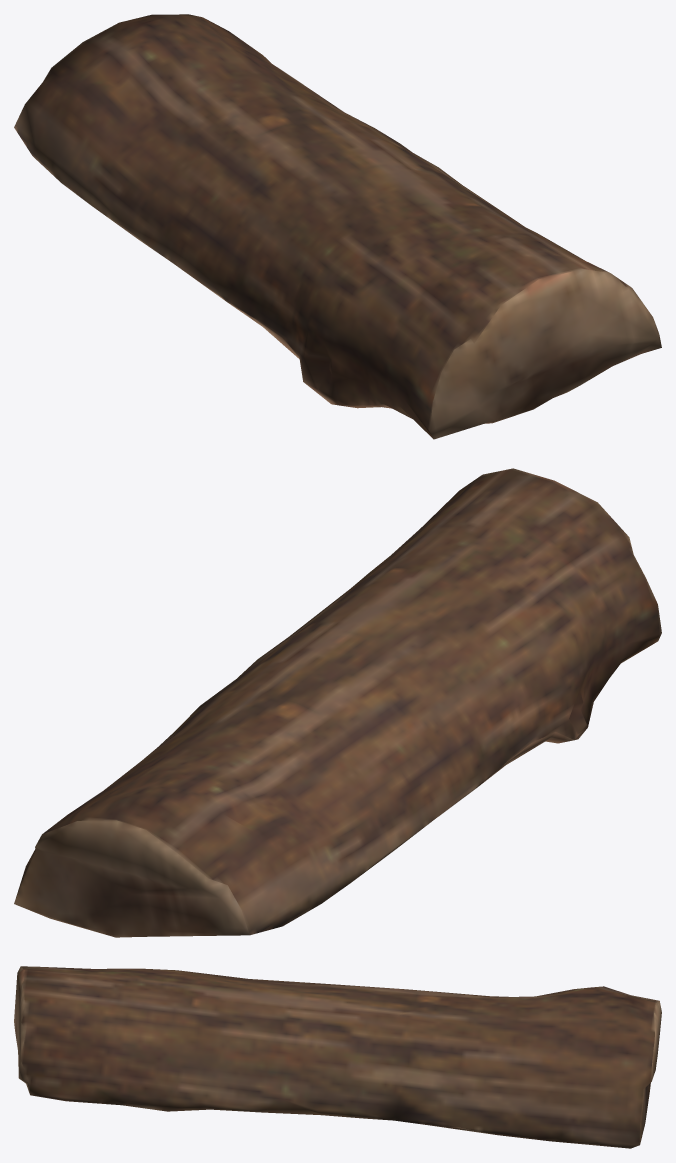
The model's file is SM_WoodPart_01.fbx.
3 renders of one model, top to bottom at view 1: azimuth 30°, elevation 25°; view 2: azimuth 150°, elevation 25°; view 3: azimuth 270°, elevation 25°, orthographic. The views are drawn at different scales.
Parts seen in each view (by area): view 1: SM_WoodPart_01_LOD0; view 2: SM_WoodPart_01_LOD0; view 3: SM_WoodPart_01_LOD0.
Part boxes in pixels (left/top/right/bottom): SM_WoodPart_01_LOD0: left=14, top=14, right=661, bottom=439; SM_WoodPart_01_LOD0: left=14, top=468, right=661, bottom=937; SM_WoodPart_01_LOD0: left=14, top=966, right=661, bottom=1148.
Bounding box in the file's own units: 7.59 × 21.01 × 4.62.
Materials: 1 (1 with a texture image).
